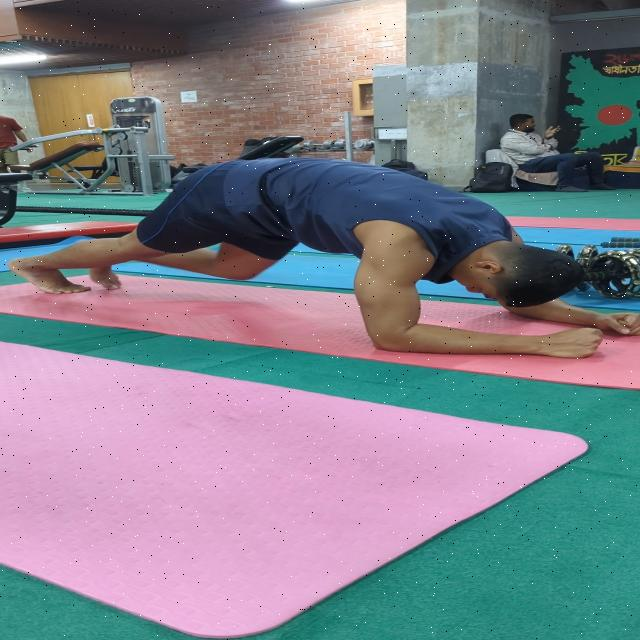Normal_MountainClimbers: (4, 110, 640, 372)
